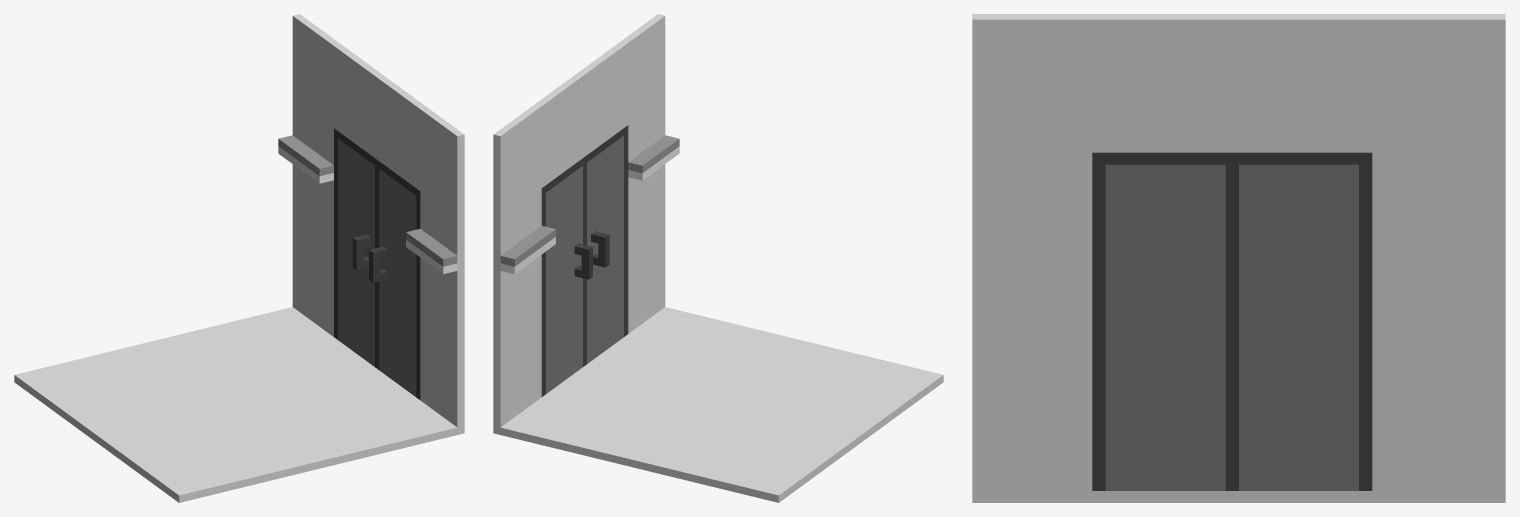
Rendered from Wall_with_door.obj.
3 views of the same model, side by side, from view 1: azimuth 30°, elevation 25°; view 2: azimuth 150°, elevation 25°; view 3: azimuth 270°, elevation 25° (orthographic). The views are drawn at different scales.
Bounding box in the file's own units: 4 × 4 × 4.
1 material, 1 textured.
